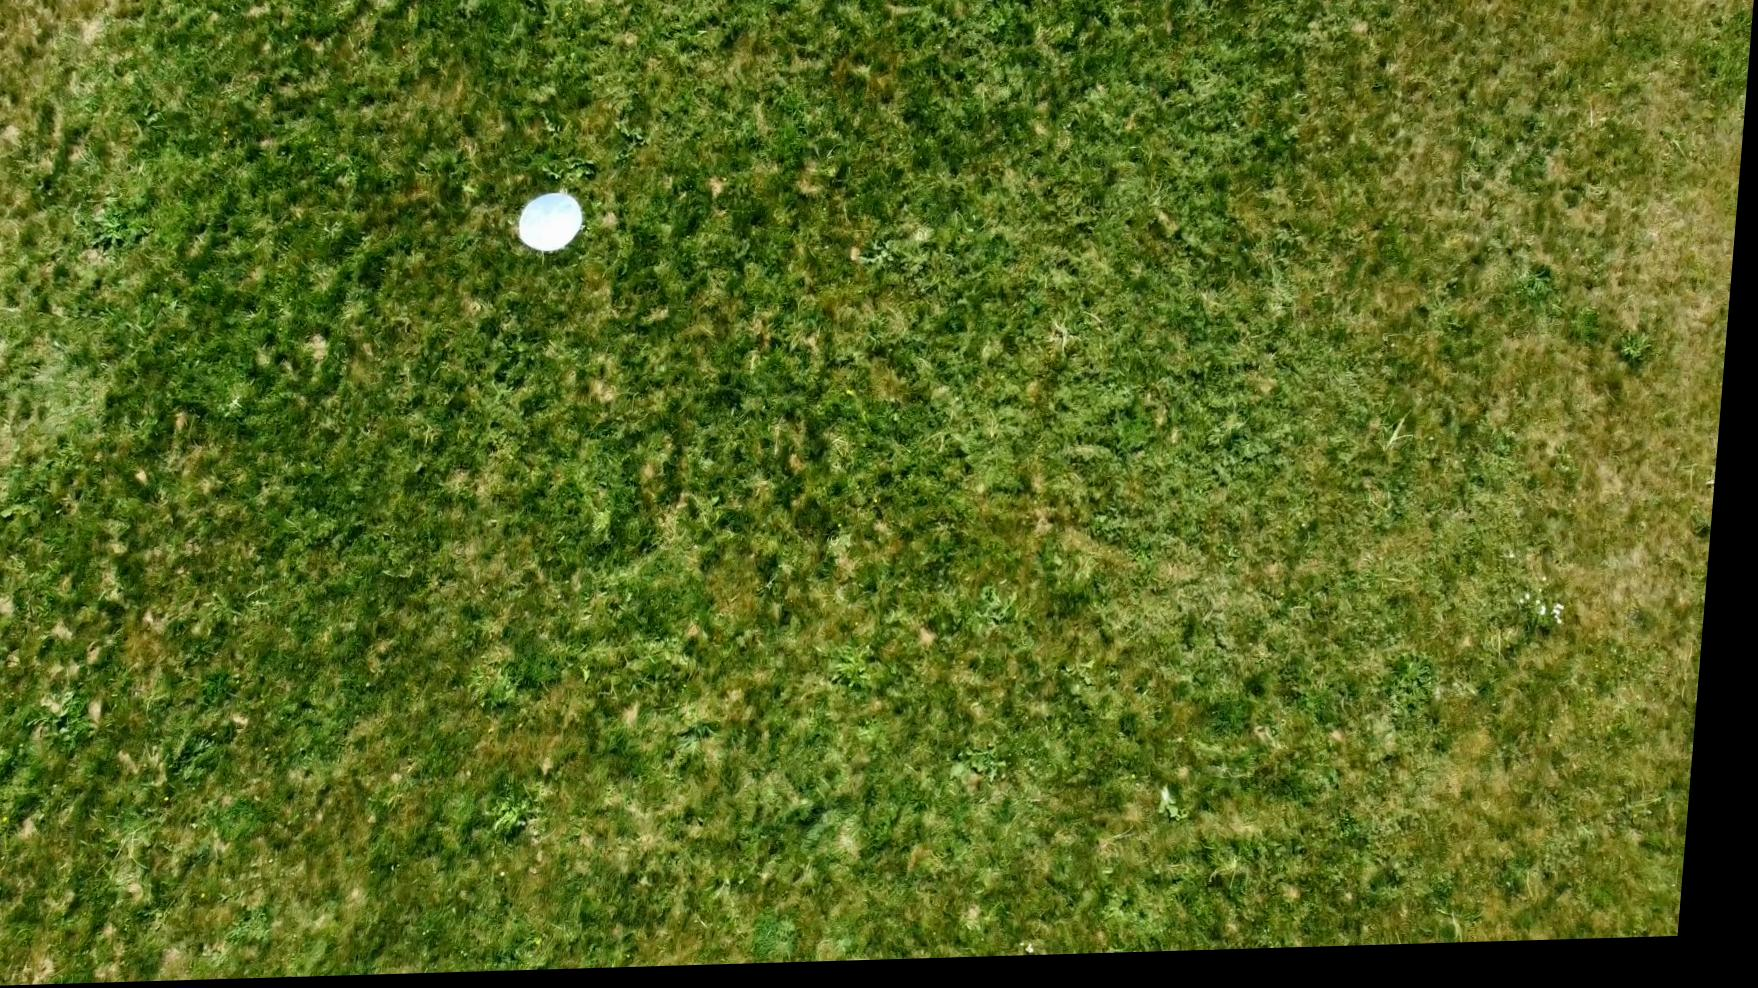Blue: (517, 191, 594, 258)
